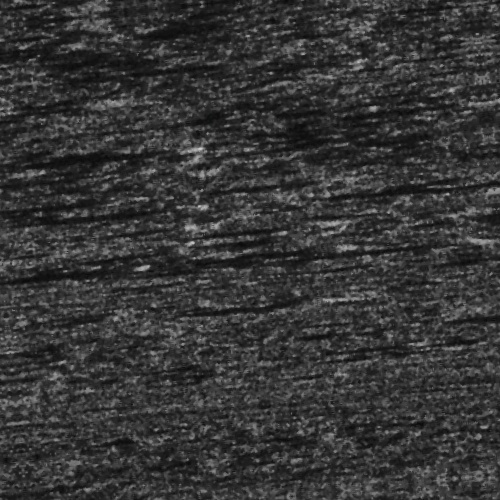object: (105, 191, 302, 206), (297, 182, 390, 189), (432, 199, 500, 208), (14, 143, 67, 152), (475, 255, 500, 272), (479, 107, 490, 142), (312, 224, 343, 233), (107, 180, 148, 185), (318, 303, 349, 308), (475, 358, 500, 363), (182, 136, 203, 141), (323, 149, 344, 152)
shadow: (314, 107, 484, 142), (239, 255, 490, 272), (0, 191, 203, 206), (285, 199, 468, 208), (211, 224, 327, 233), (0, 136, 192, 141), (226, 182, 344, 189), (415, 203, 500, 212), (180, 303, 333, 308), (0, 180, 127, 185), (0, 143, 41, 152), (424, 358, 495, 363), (220, 149, 333, 152), (469, 337, 500, 344)
